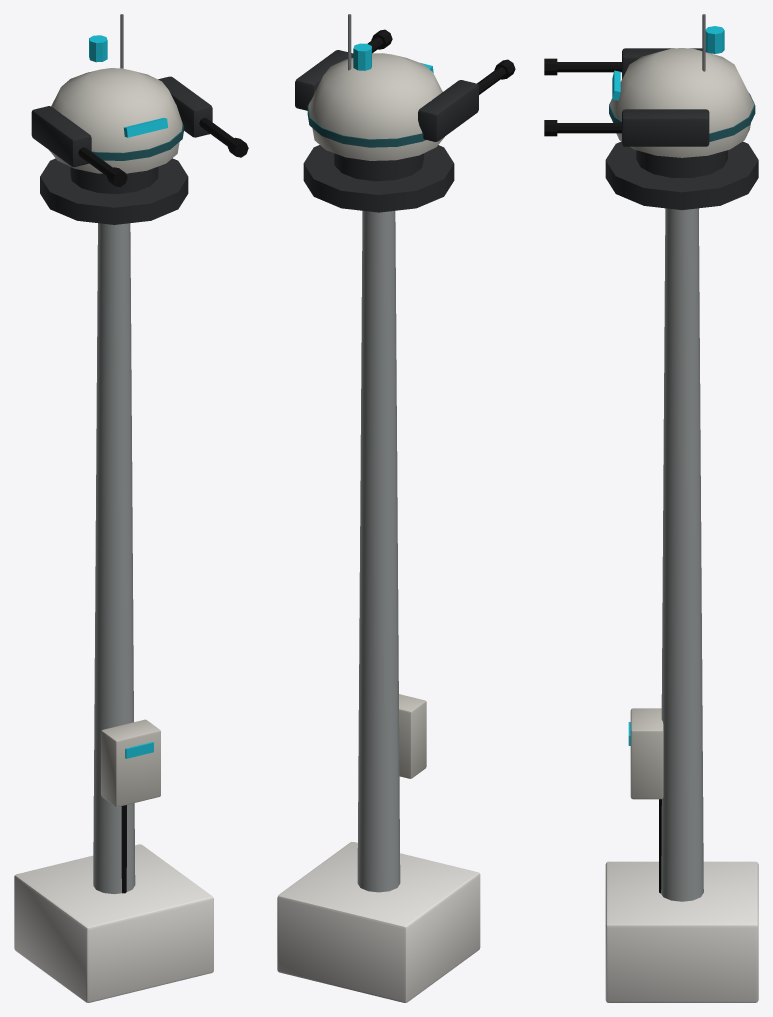
File: turret-mast.glb
3 renders of one model, left to right at view 1: azimuth 30°, elevation 25°; view 2: azimuth 150°, elevation 25°; view 3: azimuth 270°, elevation 25°, orthographic. The views are drawn at different scales.
Parts seen in each view (by area): view 1: Piece_lod0; view 2: Piece_lod0; view 3: Piece_lod0.
Boxes of the visible parts, x1,y1,x2,y2 form: Piece_lod0: (14, 14, 248, 1002); Piece_lod0: (277, 14, 515, 1002); Piece_lod0: (544, 14, 758, 1002).
Size of what is drawn, in the model's own units: 1.54 by 9.75 by 1.96.
